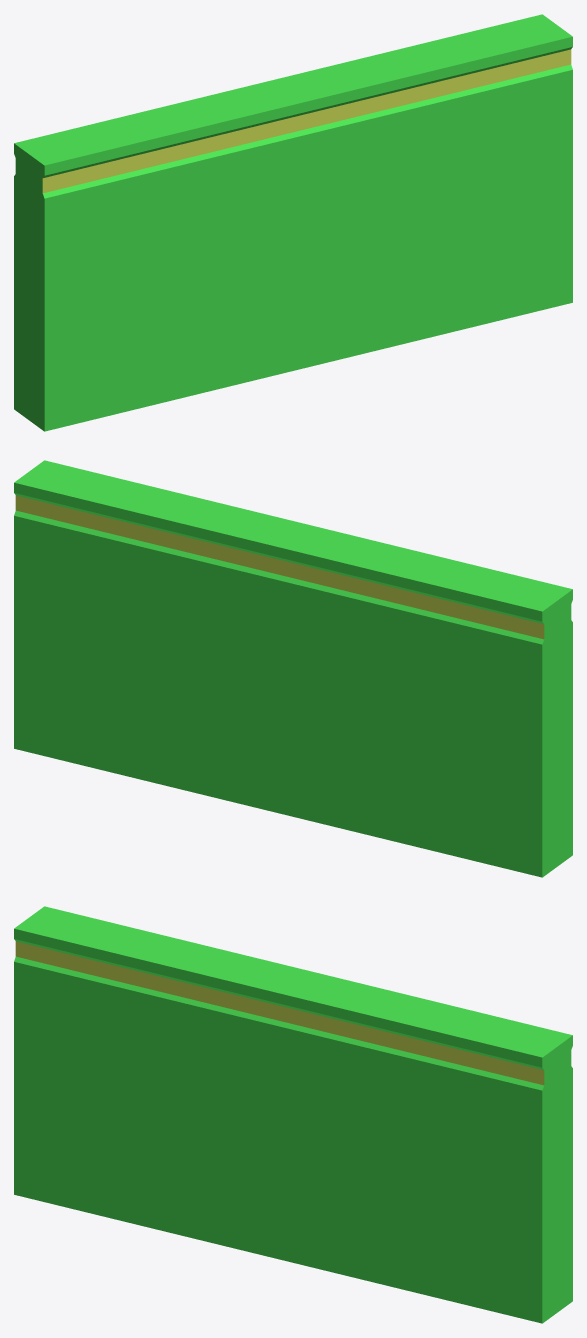
The model's file is Partition_Wall_03_C.fbx.
3 views of the same model, one above another, from view 1: azimuth 30°, elevation 25°; view 2: azimuth 150°, elevation 25°; view 3: azimuth 330°, elevation 25° (orthographic).
Visible parts, largest first — view 1: Partition_Wall_03_C; view 2: Partition_Wall_03_C; view 3: Partition_Wall_03_C.
Part boxes in pixels (x1,y1,x2,y2): Partition_Wall_03_C: (14,14,572,431); Partition_Wall_03_C: (14,460,572,877); Partition_Wall_03_C: (14,906,572,1323).
Size of the model in its own units: 183 by 87.99 by 18.29.
